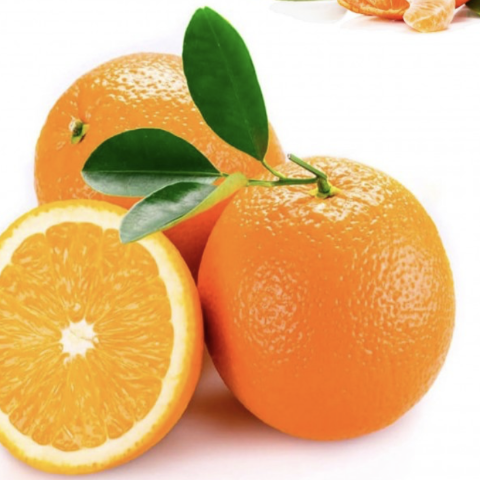orange: (179, 126, 467, 455), (26, 46, 312, 313)
